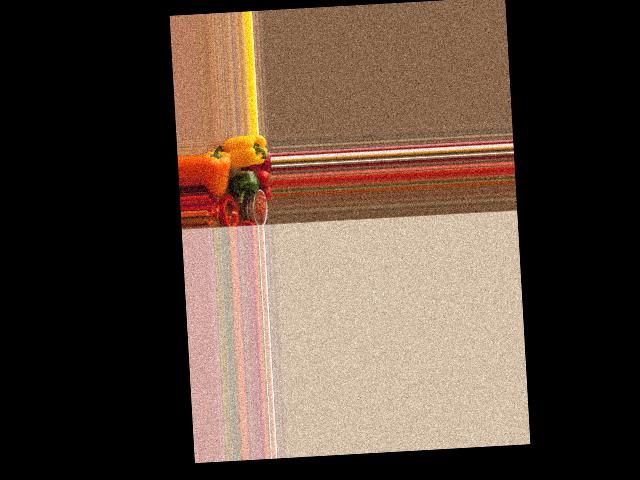bell_pepper: (230, 134, 267, 168)
